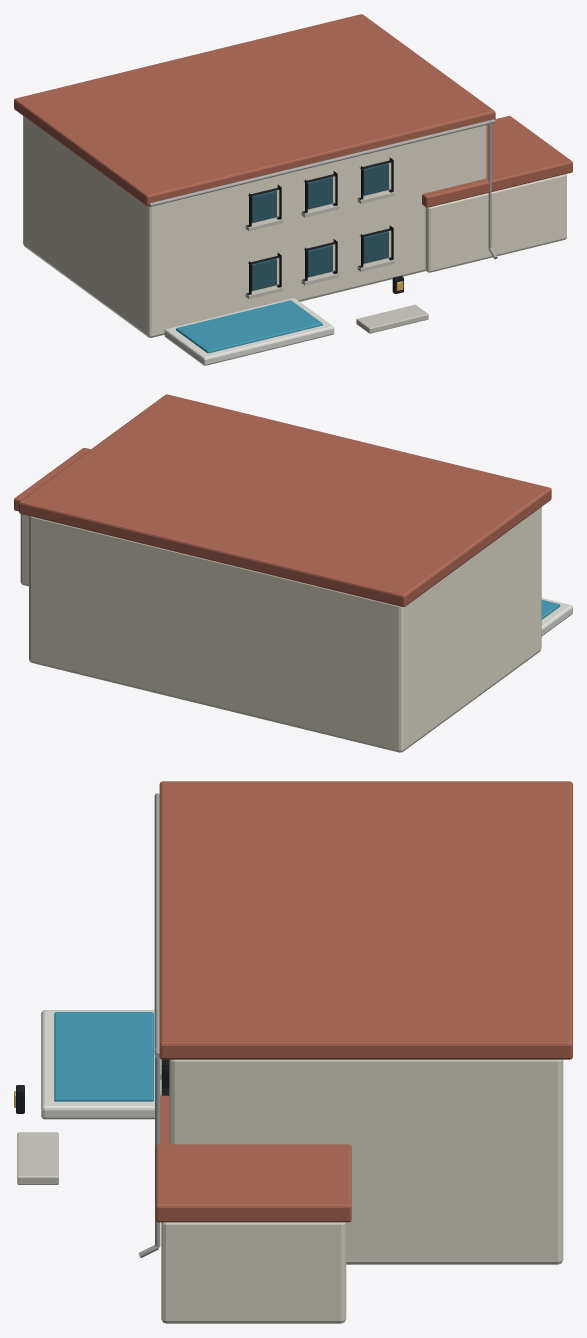
File: RES_LUX_3x2_004.glb
3 renders of one model, top to bottom at view 1: azimuth 30°, elevation 25°; view 2: azimuth 150°, elevation 25°; view 3: azimuth 270°, elevation 25°, orthographic. The views are drawn at different scales.
Parts seen in each view (by area): view 1: RES_LUX_3x2_004_Visual; view 2: RES_LUX_3x2_004_Visual; view 3: RES_LUX_3x2_004_Visual.
Part boxes in pixels (x1,y1,x2,y2): RES_LUX_3x2_004_Visual: [14, 14, 572, 365]; RES_LUX_3x2_004_Visual: [14, 394, 572, 752]; RES_LUX_3x2_004_Visual: [14, 781, 572, 1323].
Size of what is drawn, in the model's own units: 4.71 by 1.56 by 3.47.
